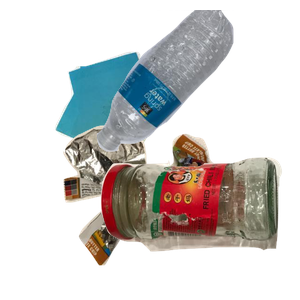glass: (98, 155, 300, 300)
paper: (52, 49, 209, 198)
plastic: (94, 10, 300, 154)
trash: (61, 123, 273, 300)
